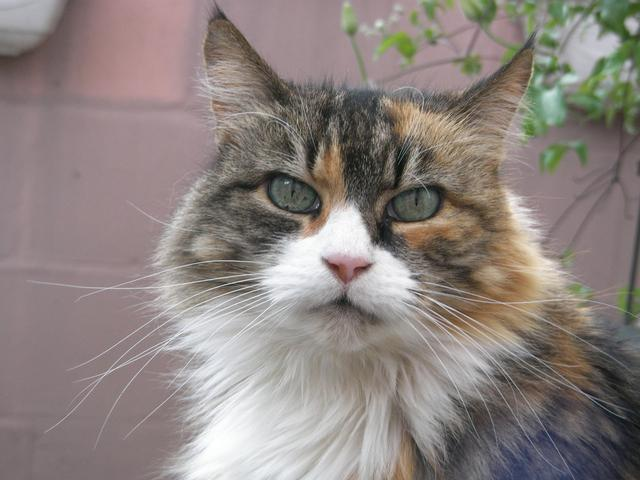cat: (115, 13, 595, 421)
